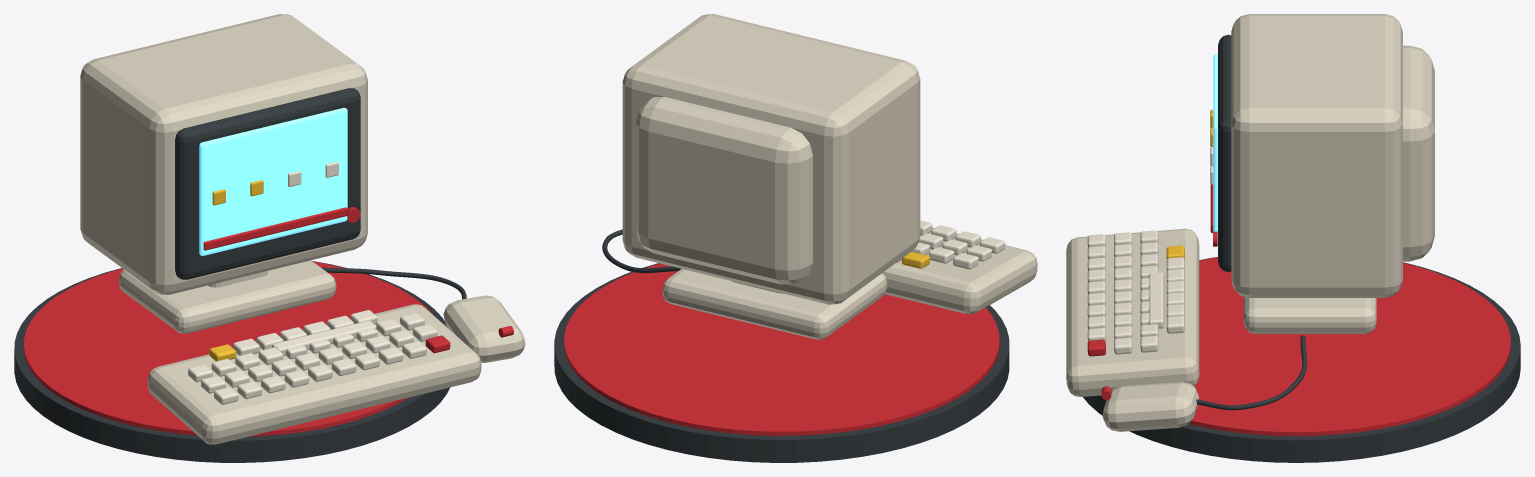
The model's file is courses-computer-blockout.glb.
3 views of the same model, side by side, from view 1: azimuth 30°, elevation 25°; view 2: azimuth 150°, elevation 25°; view 3: azimuth 270°, elevation 25° (orthographic). The views are drawn at different scales.
Visible parts, largest first — view 1: MONITOR_CASE, DISPLAY_PLINTH_ACCENT, KEYBOARD_BODY, SCREEN, DISPLAY_PLINTH, MONITOR_BEZEL, MONITOR_BASE, MOUSE, SCREEN_RED_STRIPE, SPACE_BAR, MOUSE_CABLE; view 2: DISPLAY_PLINTH_ACCENT, MONITOR_CASE, MONITOR_REAR, DISPLAY_PLINTH, MONITOR_BASE, KEYBOARD_BODY, MOUSE_CABLE; view 3: MONITOR_CASE, DISPLAY_PLINTH_ACCENT, KEYBOARD_BODY, DISPLAY_PLINTH, MONITOR_REAR, MONITOR_BASE, MOUSE, MONITOR_BEZEL, SCREEN, SPACE_BAR, MOUSE_CABLE.
Part boxes in pixels (x1,y1,x2,y2): MONITOR_CASE: (80, 14, 367, 294); DISPLAY_PLINTH_ACCENT: (24, 261, 433, 436); KEYBOARD_BODY: (147, 304, 481, 444); SCREEN: (199, 108, 347, 255); DISPLAY_PLINTH: (14, 261, 450, 462); MONITOR_BEZEL: (175, 88, 360, 279); MONITOR_BASE: (119, 260, 336, 333); MOUSE: (443, 295, 525, 362); SCREEN_RED_STRIPE: (203, 207, 347, 250); SPACE_BAR: (272, 320, 376, 355); MOUSE_CABLE: (322, 267, 466, 299); DISPLAY_PLINTH_ACCENT: (564, 263, 999, 435); MONITOR_CASE: (622, 14, 920, 304); MONITOR_REAR: (635, 96, 812, 284); DISPLAY_PLINTH: (554, 263, 1009, 462); MONITOR_BASE: (662, 269, 887, 339); KEYBOARD_BODY: (882, 227, 1037, 313); MOUSE_CABLE: (602, 229, 681, 273); MONITOR_CASE: (1231, 14, 1402, 297); DISPLAY_PLINTH_ACCENT: (1189, 257, 1510, 436); KEYBOARD_BODY: (1066, 228, 1199, 396); DISPLAY_PLINTH: (1083, 257, 1520, 462); MONITOR_REAR: (1403, 45, 1434, 261); MONITOR_BASE: (1243, 296, 1376, 333); MOUSE: (1102, 382, 1198, 431); MONITOR_BEZEL: (1218, 34, 1231, 272); SCREEN: (1213, 54, 1217, 239); SPACE_BAR: (1148, 272, 1164, 328); MOUSE_CABLE: (1196, 335, 1307, 410).
Size of the model in its own units: 3.4 by 2.44 by 3.28.
